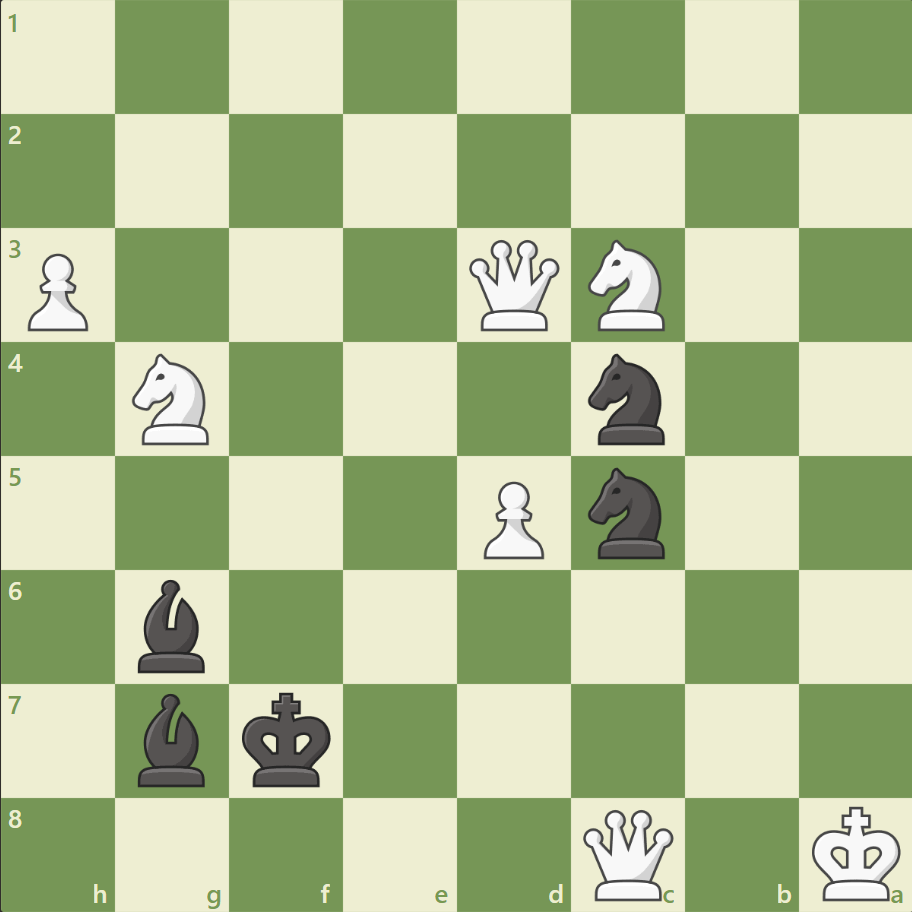K: (806, 798, 906, 906)
N: (124, 348, 222, 450), (579, 234, 676, 337)
P: (474, 473, 549, 564), (20, 246, 95, 337)
Q: (578, 804, 677, 903), (464, 236, 563, 335)
b: (131, 687, 215, 790), (131, 574, 215, 676)
k: (238, 685, 338, 793)
n: (579, 461, 676, 564), (579, 348, 676, 450)
